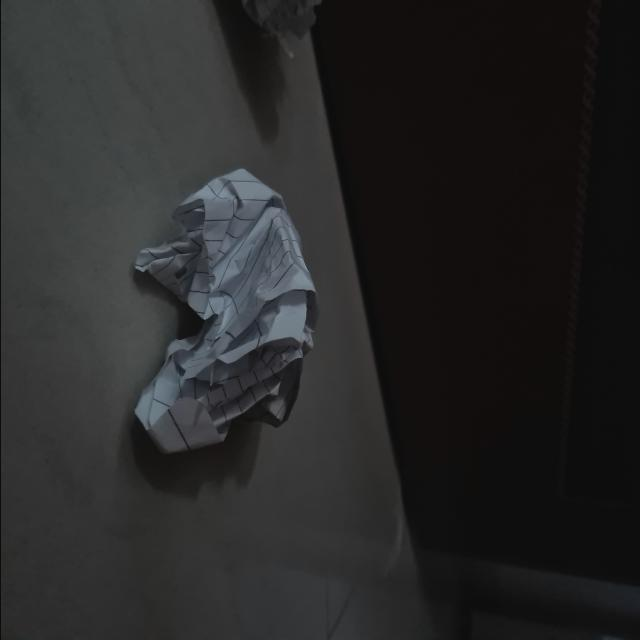Paper: (122, 159, 327, 464)
